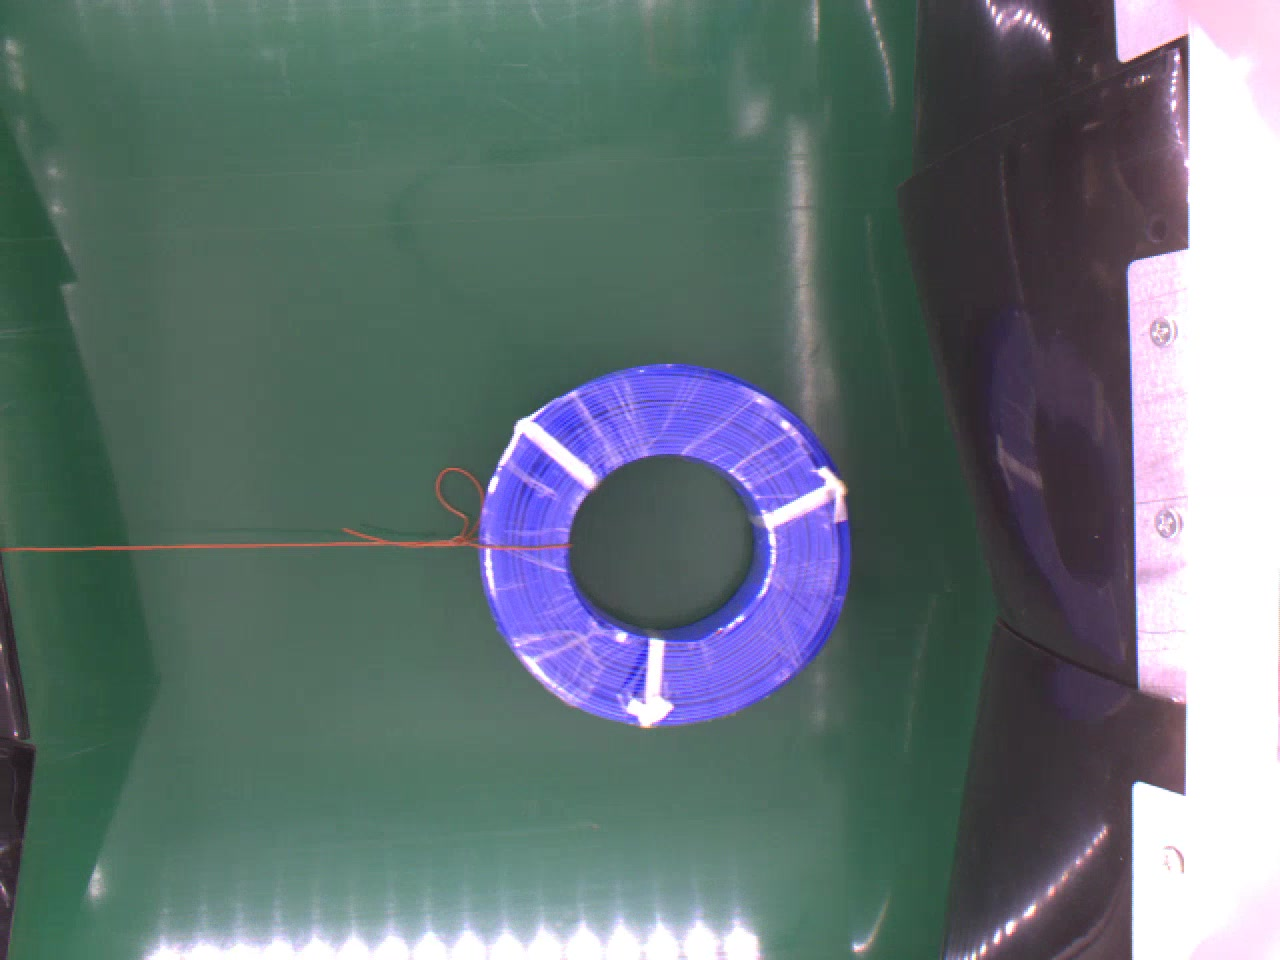blue: (477, 362, 858, 730)
